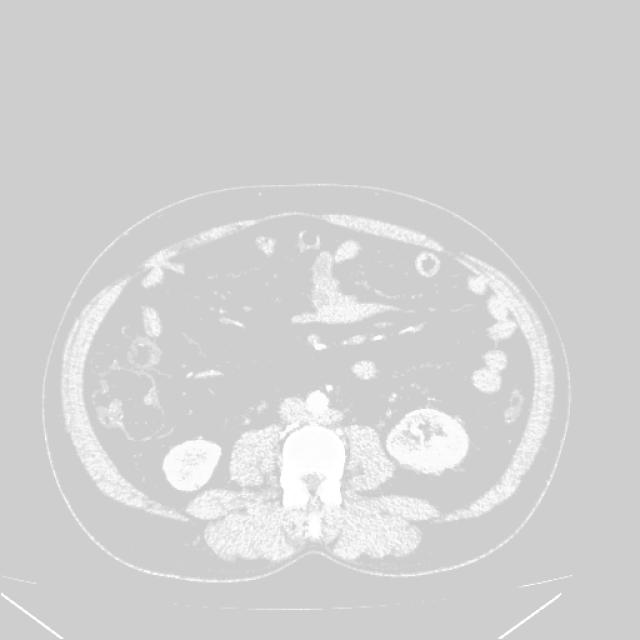TUMOR: (46, 256, 575, 515)
